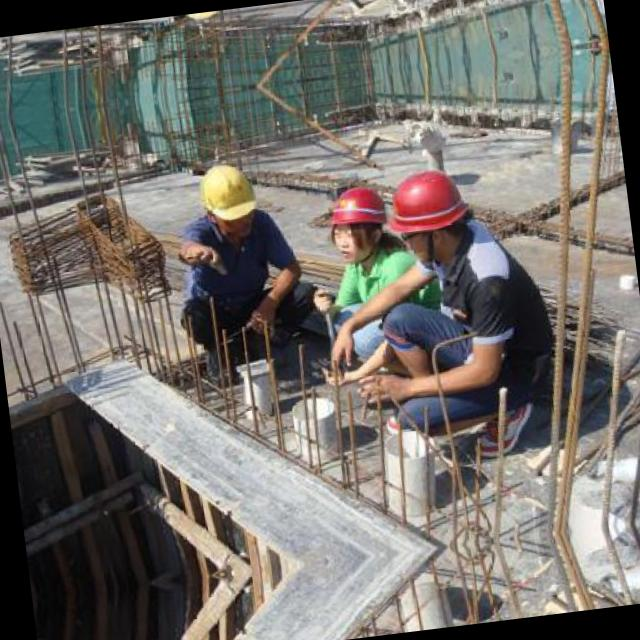helmet: (378, 160, 474, 264), (190, 156, 262, 243), (321, 179, 392, 266)
